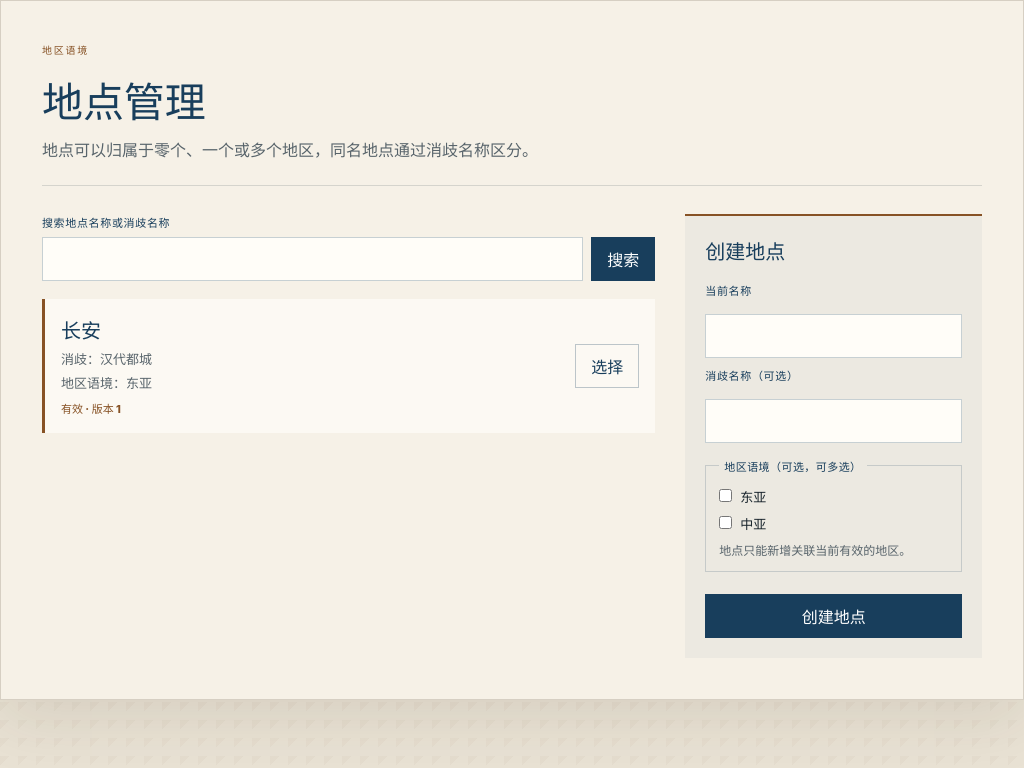
地点与历史时期管理 › 编辑者创建关联多个地区的同名地点并可选择
Check: the text "消歧：汉代都城" is shown, box x1=61 y1=349 x2=152 y2=368
Click the button "选择": click(607, 366) x1=575 y1=344 x2=639 y2=388
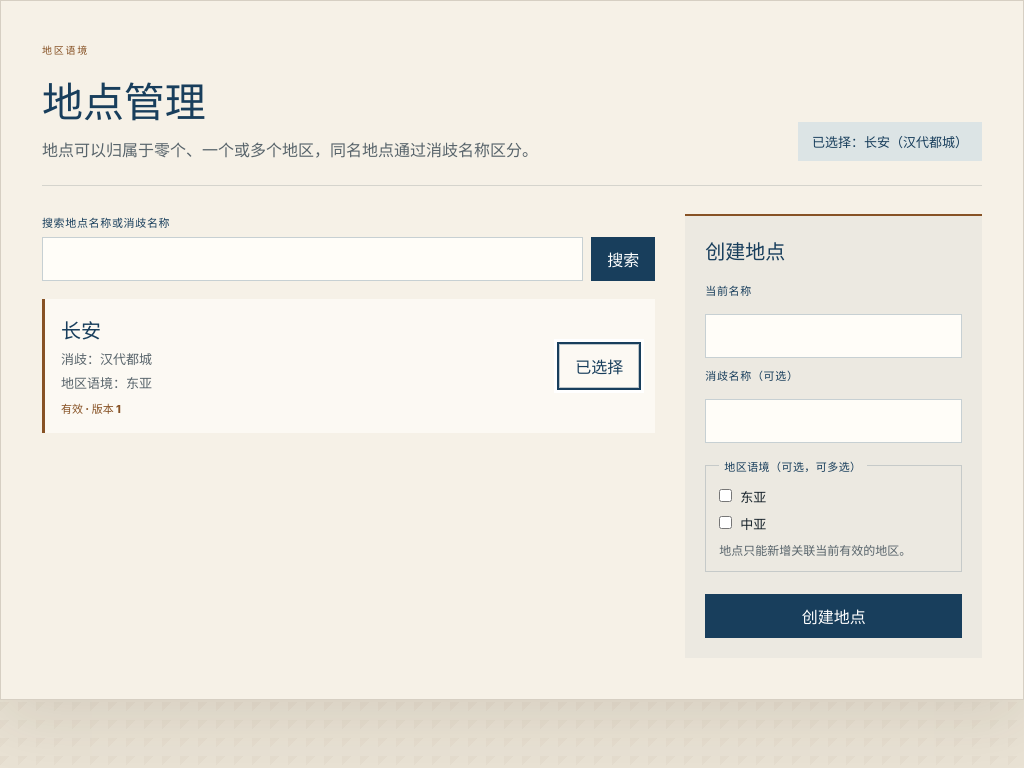
Check: the text "已选择：长安（汉代都城）" is shown, box x1=798 y1=122 x2=982 y2=161
In the field labelled "当前名称": (834, 336) x1=705 y1=314 x2=962 y2=358, type "长安"
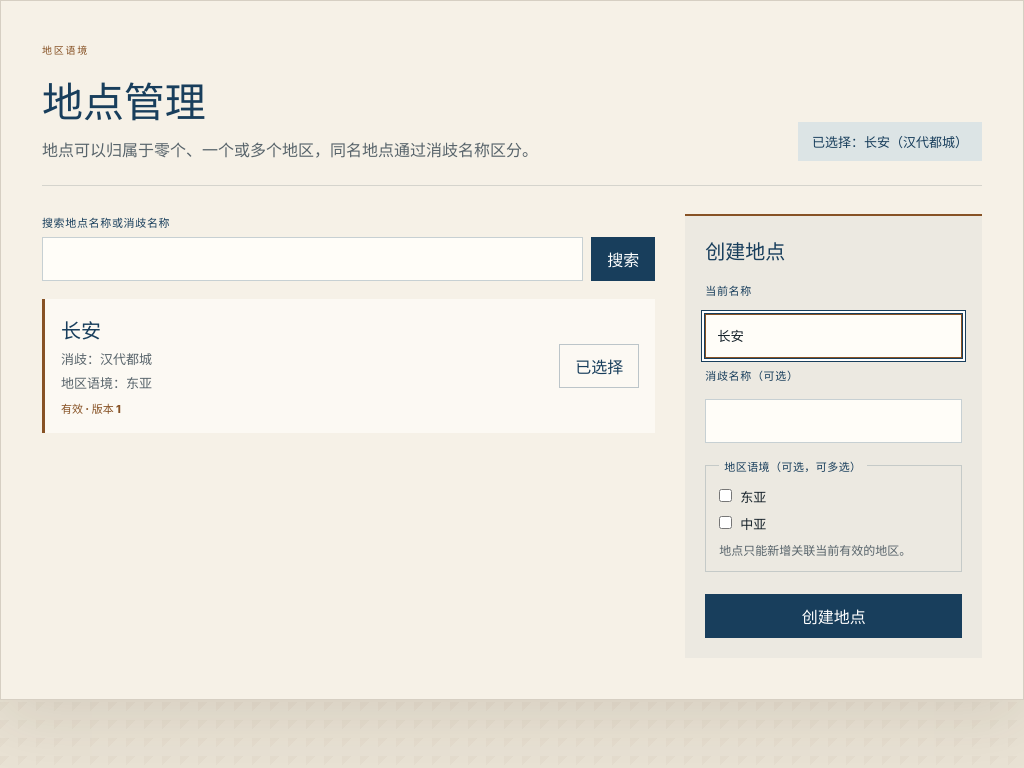
In the field labelled "消歧名称（可选）": (834, 421) x1=705 y1=399 x2=962 y2=443, type "唐代都城"
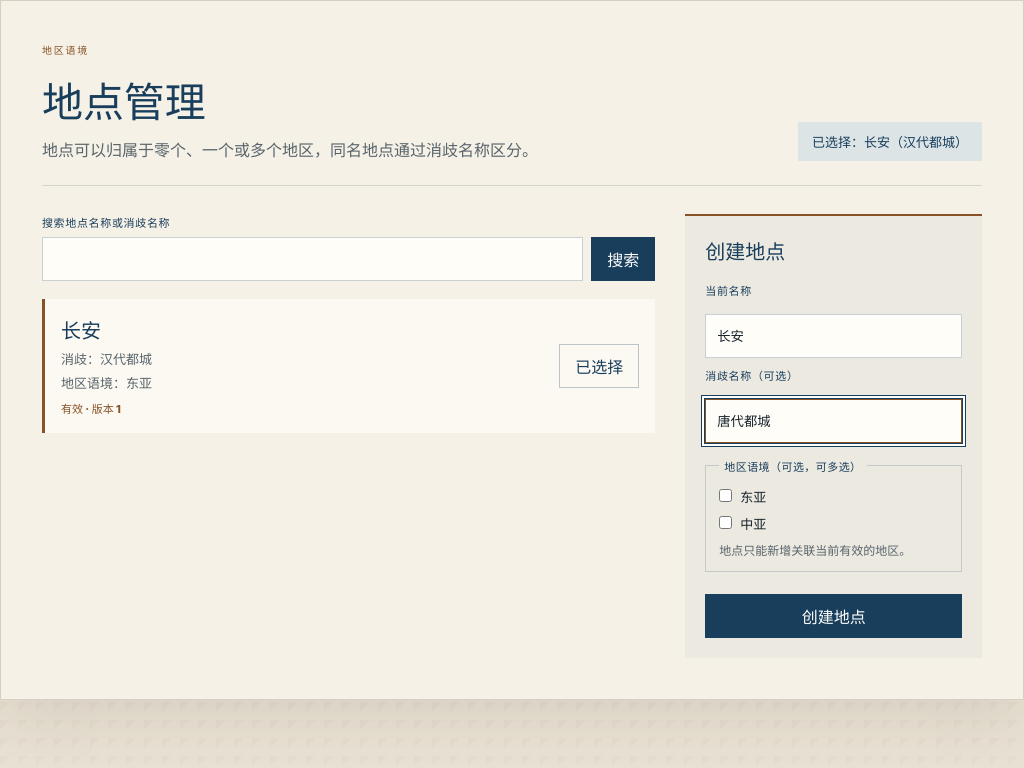
Click the checkbox labelled "东亚": click(726, 496) x1=719 y1=489 x2=732 y2=502
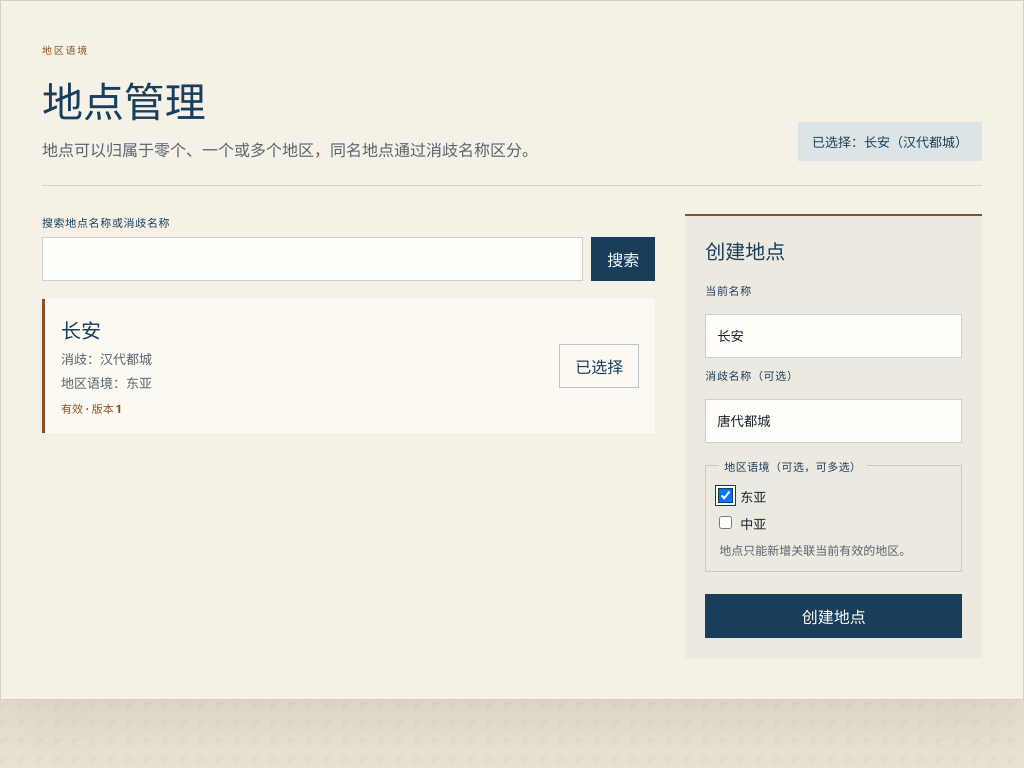
Click the checkbox labelled "中亚": click(726, 522) x1=719 y1=516 x2=732 y2=529
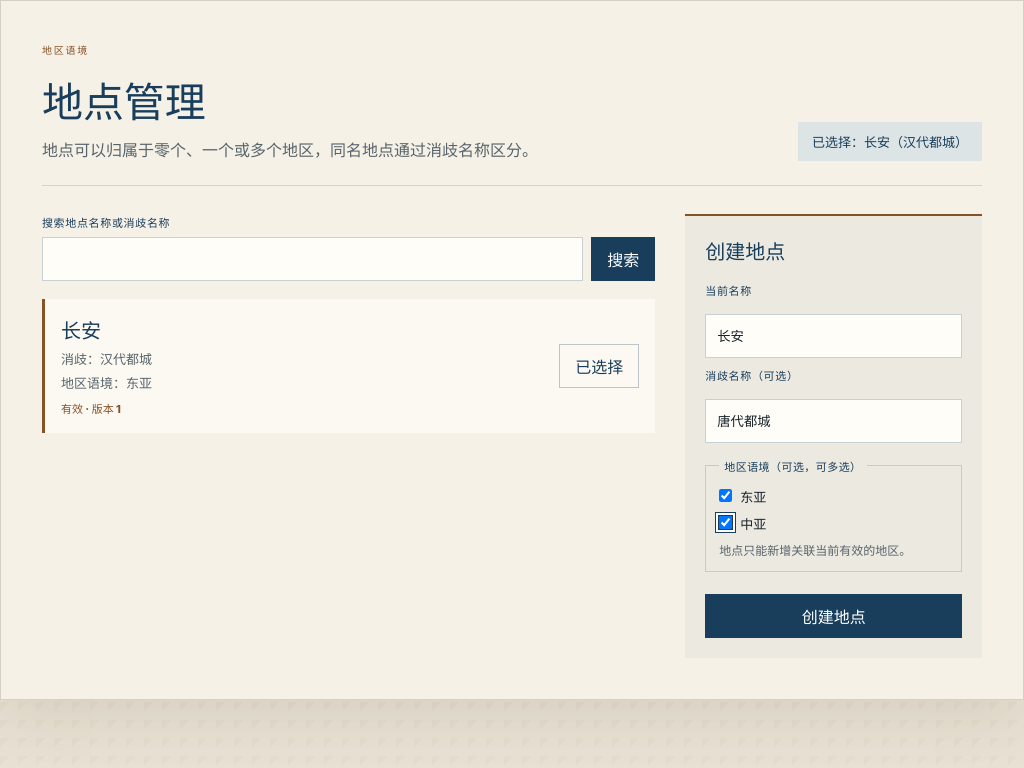
Click the button "创建地点": click(834, 616) x1=705 y1=594 x2=962 y2=638
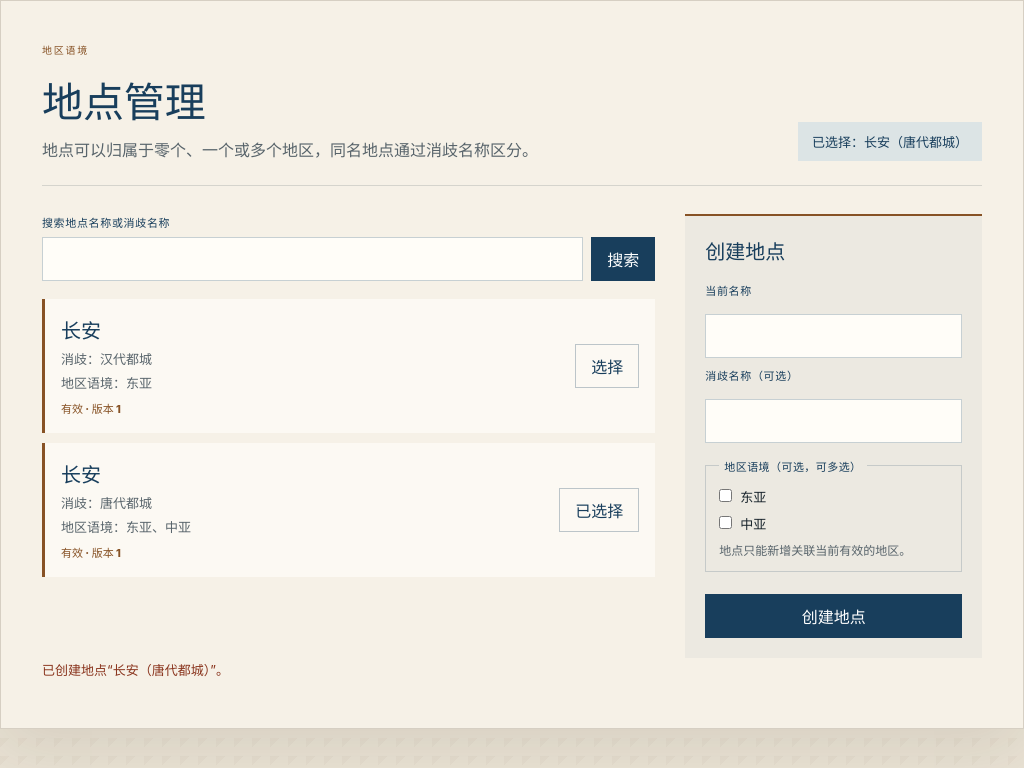
Check: the text "已创建地点“长安（唐代都城）”。" is shown, box x1=42 y1=662 x2=229 y2=678
